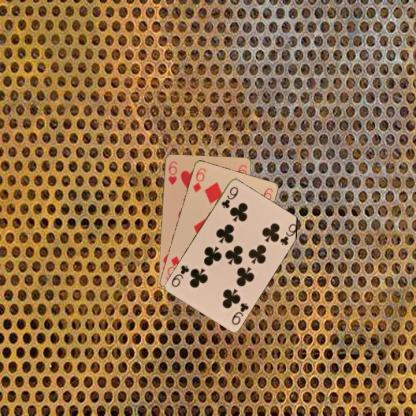6d: (190, 165, 207, 194)
6h: (166, 158, 178, 186)
9c: (218, 184, 240, 209), (229, 300, 250, 326)
